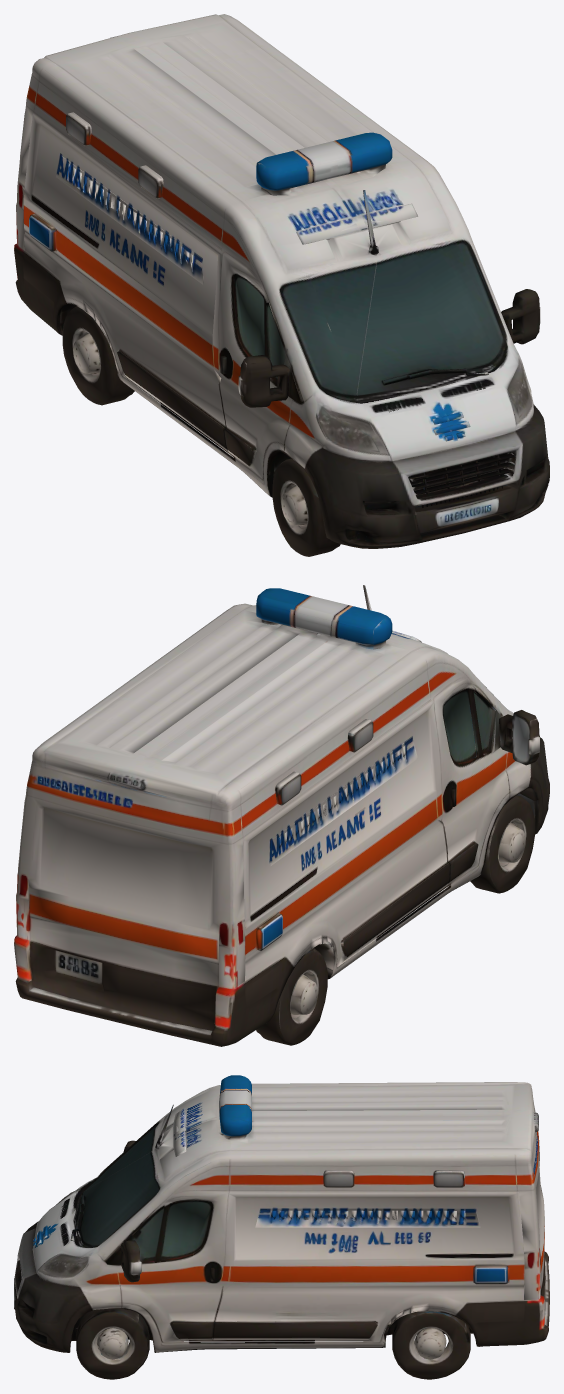
File: Medical__an_ambulance_191c2c34_v4.cluster.glb
3 views of the same model, one above another, from view 1: azimuth 30°, elevation 25°; view 2: azimuth 150°, elevation 25°; view 3: azimuth 270°, elevation 25° (orthographic). The views are drawn at different scales.
Visible parts, largest first — view 1: material; view 2: material; view 3: material.
Part boxes in pixels (x1,y1,x2,y2): material: [14, 14, 549, 556]; material: [14, 585, 549, 1046]; material: [14, 1075, 549, 1379].
Size of the model in its own units: 0.9393 by 0.951 by 1.9.
1 material, 1 textured.
